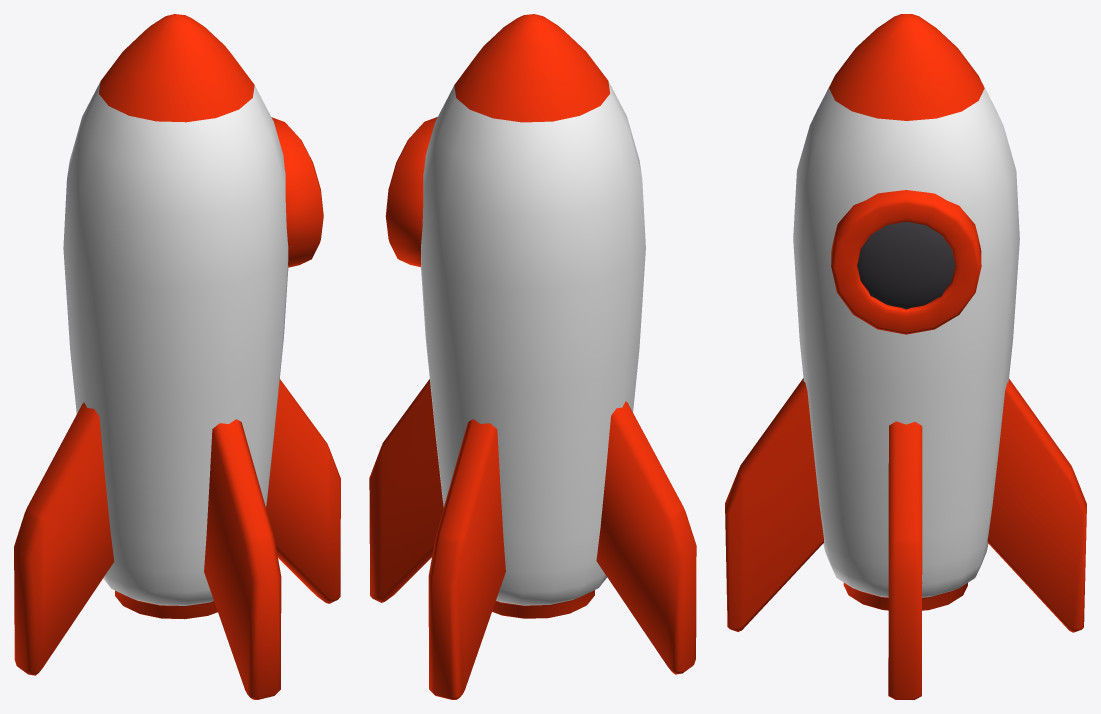
Rendered from rocket.gltf.
3 renders of one model, left to right at view 1: azimuth 30°, elevation 25°; view 2: azimuth 150°, elevation 25°; view 3: azimuth 270°, elevation 25°, orthographic.
Visible parts, largest first — view 1: Rocket; view 2: Rocket; view 3: Rocket.
Boxes of the visible parts, box(x1,y1,x2,y2) form: Rocket: box(14, 14, 340, 699); Rocket: box(369, 14, 696, 699); Rocket: box(725, 14, 1086, 699).
Size of the model in its own units: 2.49 by 4.67 by 2.49.
